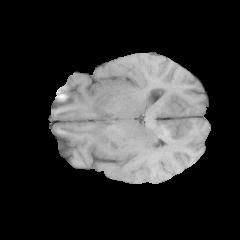glioma: (97, 114, 164, 160)
